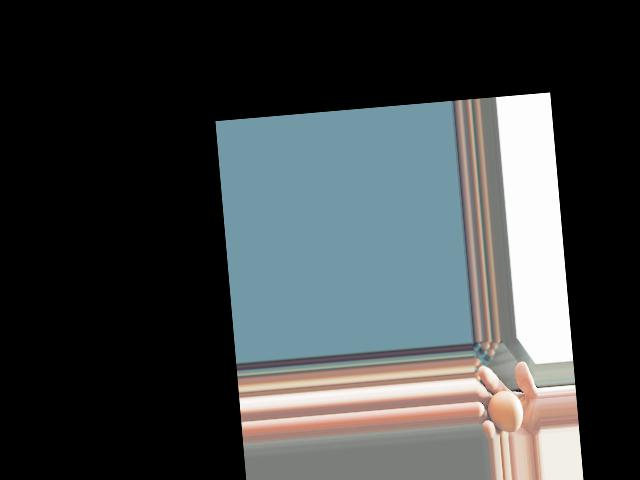egg: (485, 389, 524, 435)
